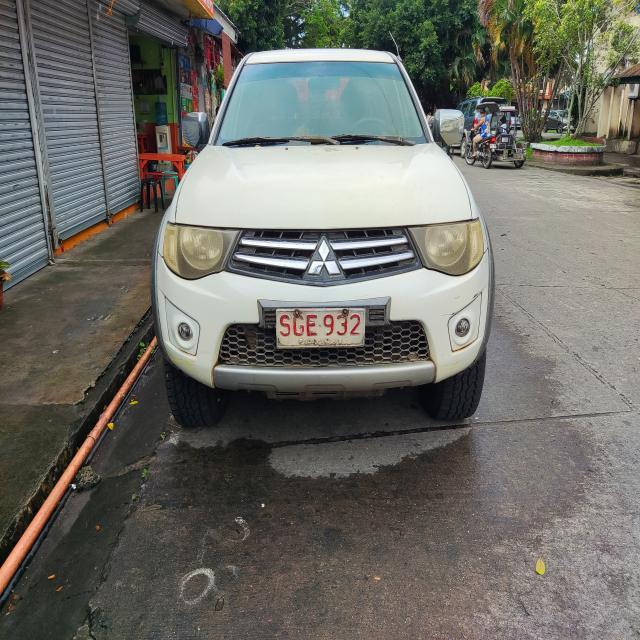LicensePlate: (268, 302, 374, 358)
